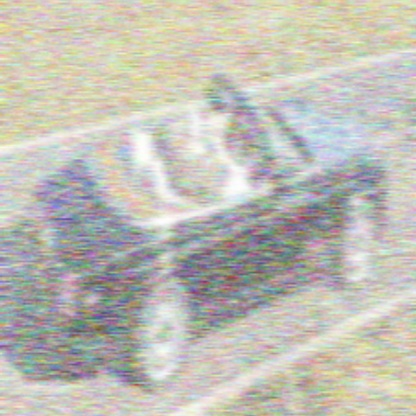Vehicle: (24, 69, 390, 392)
